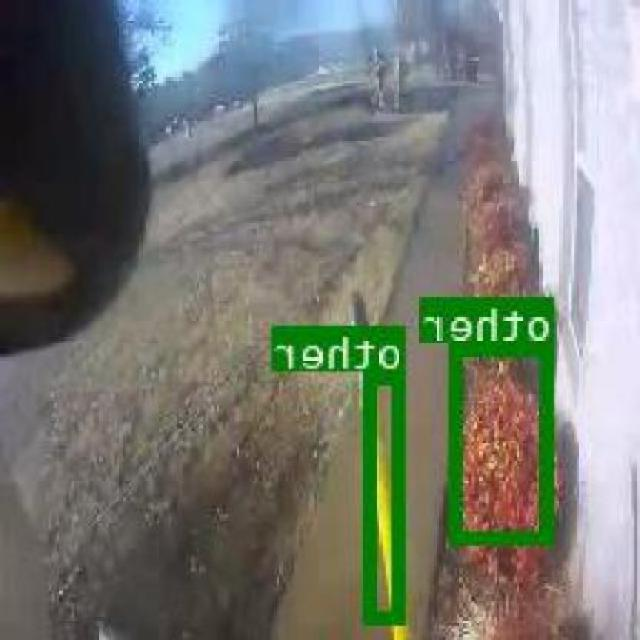other: (452, 342, 558, 542), (366, 370, 408, 622)
